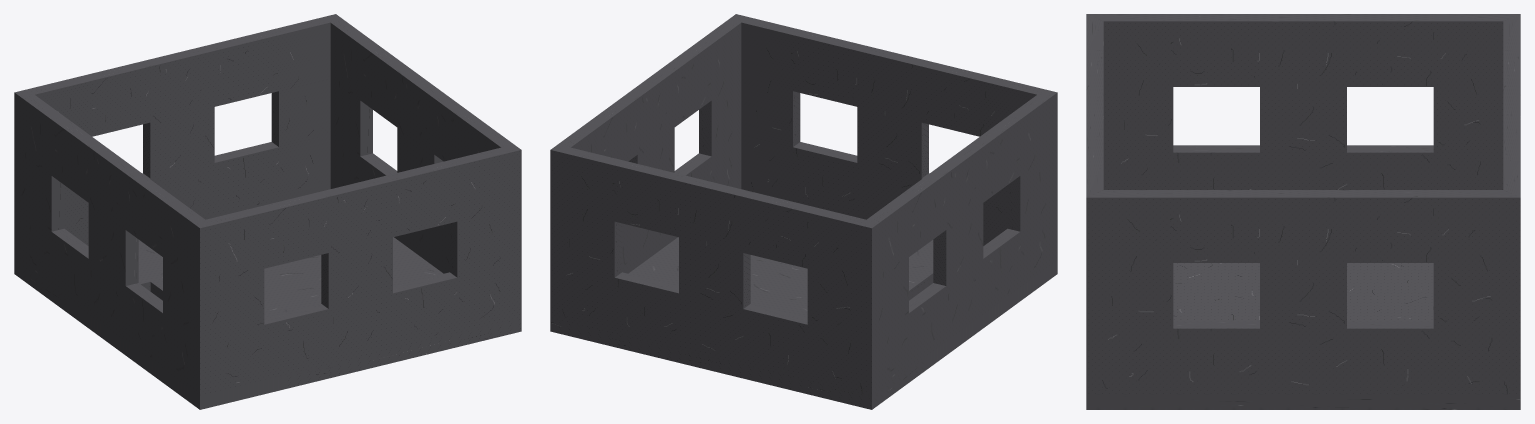
Rendered from Middle Floor Compound Concrete.fbx.
3 renders of one model, left to right at view 1: azimuth 30°, elevation 25°; view 2: azimuth 150°, elevation 25°; view 3: azimuth 270°, elevation 25°, orthographic. The views are drawn at different scales.
Visible parts, largest first — view 1: Middle Floor; view 2: Middle Floor; view 3: Middle Floor.
Part boxes in pixels (<box>): Middle Floor: <box>14,14,521,409</box>; Middle Floor: <box>550,14,1057,409</box>; Middle Floor: <box>1086,14,1520,409</box>.
Bounding box in the file's own units: 1000 × 540 × 1000.
1 material, 1 textured.
